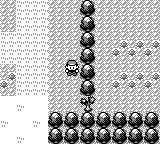main: (65, 61, 79, 76)
mo: (80, 97, 96, 111)
no-caminable: (48, 112, 159, 143), (80, 0, 95, 94)
